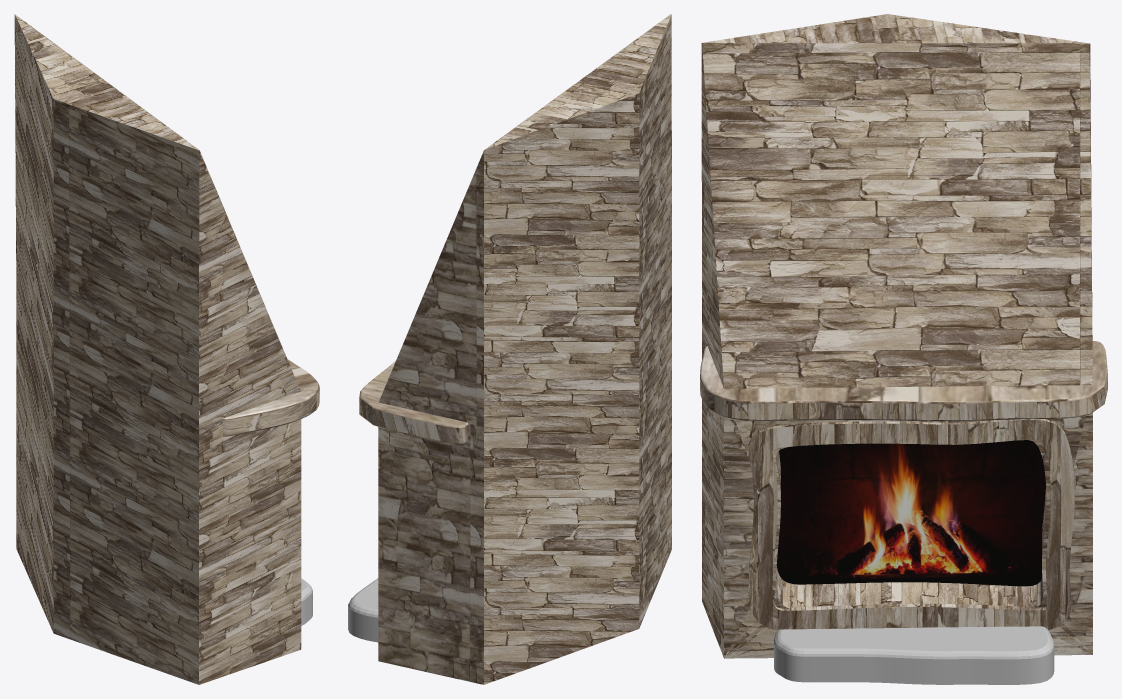
File: chimenea.obj
3 views of the same model, side by side, from view 1: azimuth 30°, elevation 25°; view 2: azimuth 150°, elevation 25°; view 3: azimuth 270°, elevation 25° (orthographic). The views are drawn at different scales.
Parts seen in each view (by area): view 1: group pasted__chimenea_chimenea_lambert2SG, group pasted__chimenea_chimenea_lambert5SG; view 2: group pasted__chimenea_chimenea_lambert2SG, group pasted__chimenea_chimenea_lambert5SG; view 3: group pasted__chimenea_chimenea_lambert2SG, pasted__chimenea_chimenea_lambert6SG group, group pasted__chimenea_chimenea_lambert5SG.
Boxes of the visible parts, x1,y1,x2,y2 form: group pasted__chimenea_chimenea_lambert2SG: [14, 14, 319, 684]; group pasted__chimenea_chimenea_lambert5SG: [301, 578, 312, 625]; group pasted__chimenea_chimenea_lambert2SG: [359, 14, 671, 684]; group pasted__chimenea_chimenea_lambert5SG: [348, 578, 378, 642]; group pasted__chimenea_chimenea_lambert2SG: [700, 14, 1107, 658]; pasted__chimenea_chimenea_lambert6SG group: [776, 440, 1045, 586]; group pasted__chimenea_chimenea_lambert5SG: [774, 626, 1054, 684].
Size of the model in its own units: 4.59 by 10.6 by 7.02.
